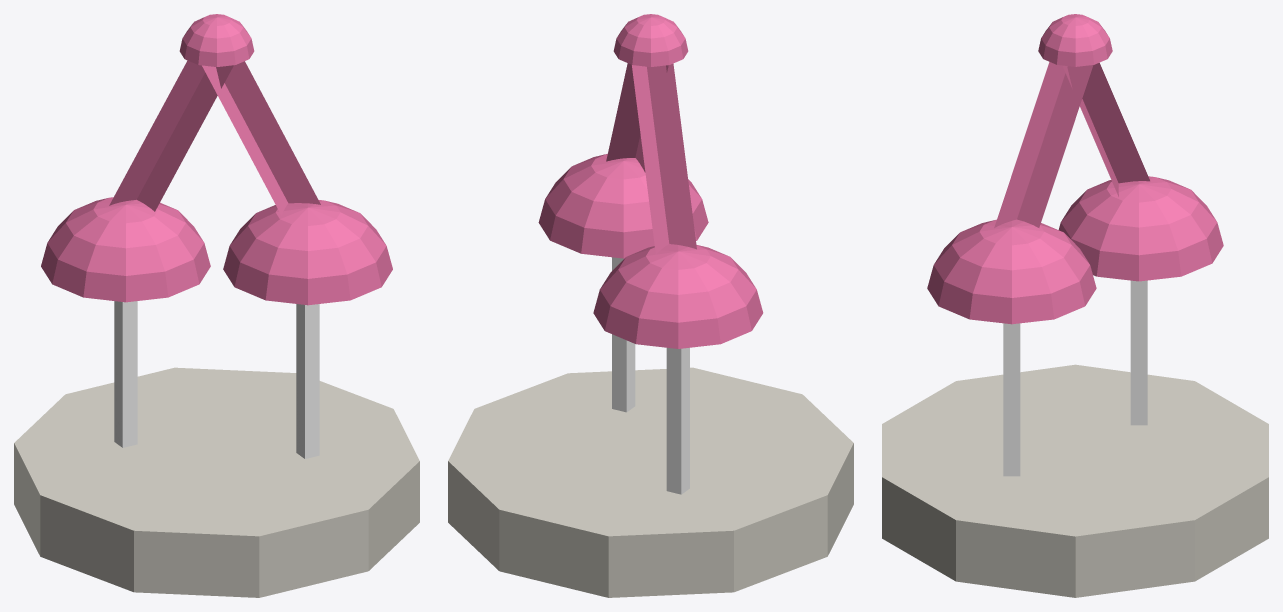
The model's file is flamingo_heart.glb.
The picture shows the model from 3 angles, left to right: view 1: azimuth 30°, elevation 25°; view 2: azimuth 150°, elevation 25°; view 3: azimuth 270°, elevation 25°; orthographic projection.
Visible parts, largest first — view 1: flamingo_heart_lod0; view 2: flamingo_heart_lod0; view 3: flamingo_heart_lod0.
Part boxes in pixels (box(x1,y1,x2,y2)): flamingo_heart_lod0: box(14, 14, 419, 597); flamingo_heart_lod0: box(448, 14, 853, 597); flamingo_heart_lod0: box(882, 14, 1268, 597).
Size of what is drawn, in the model's own units: 2.4 by 3.22 by 2.28.
